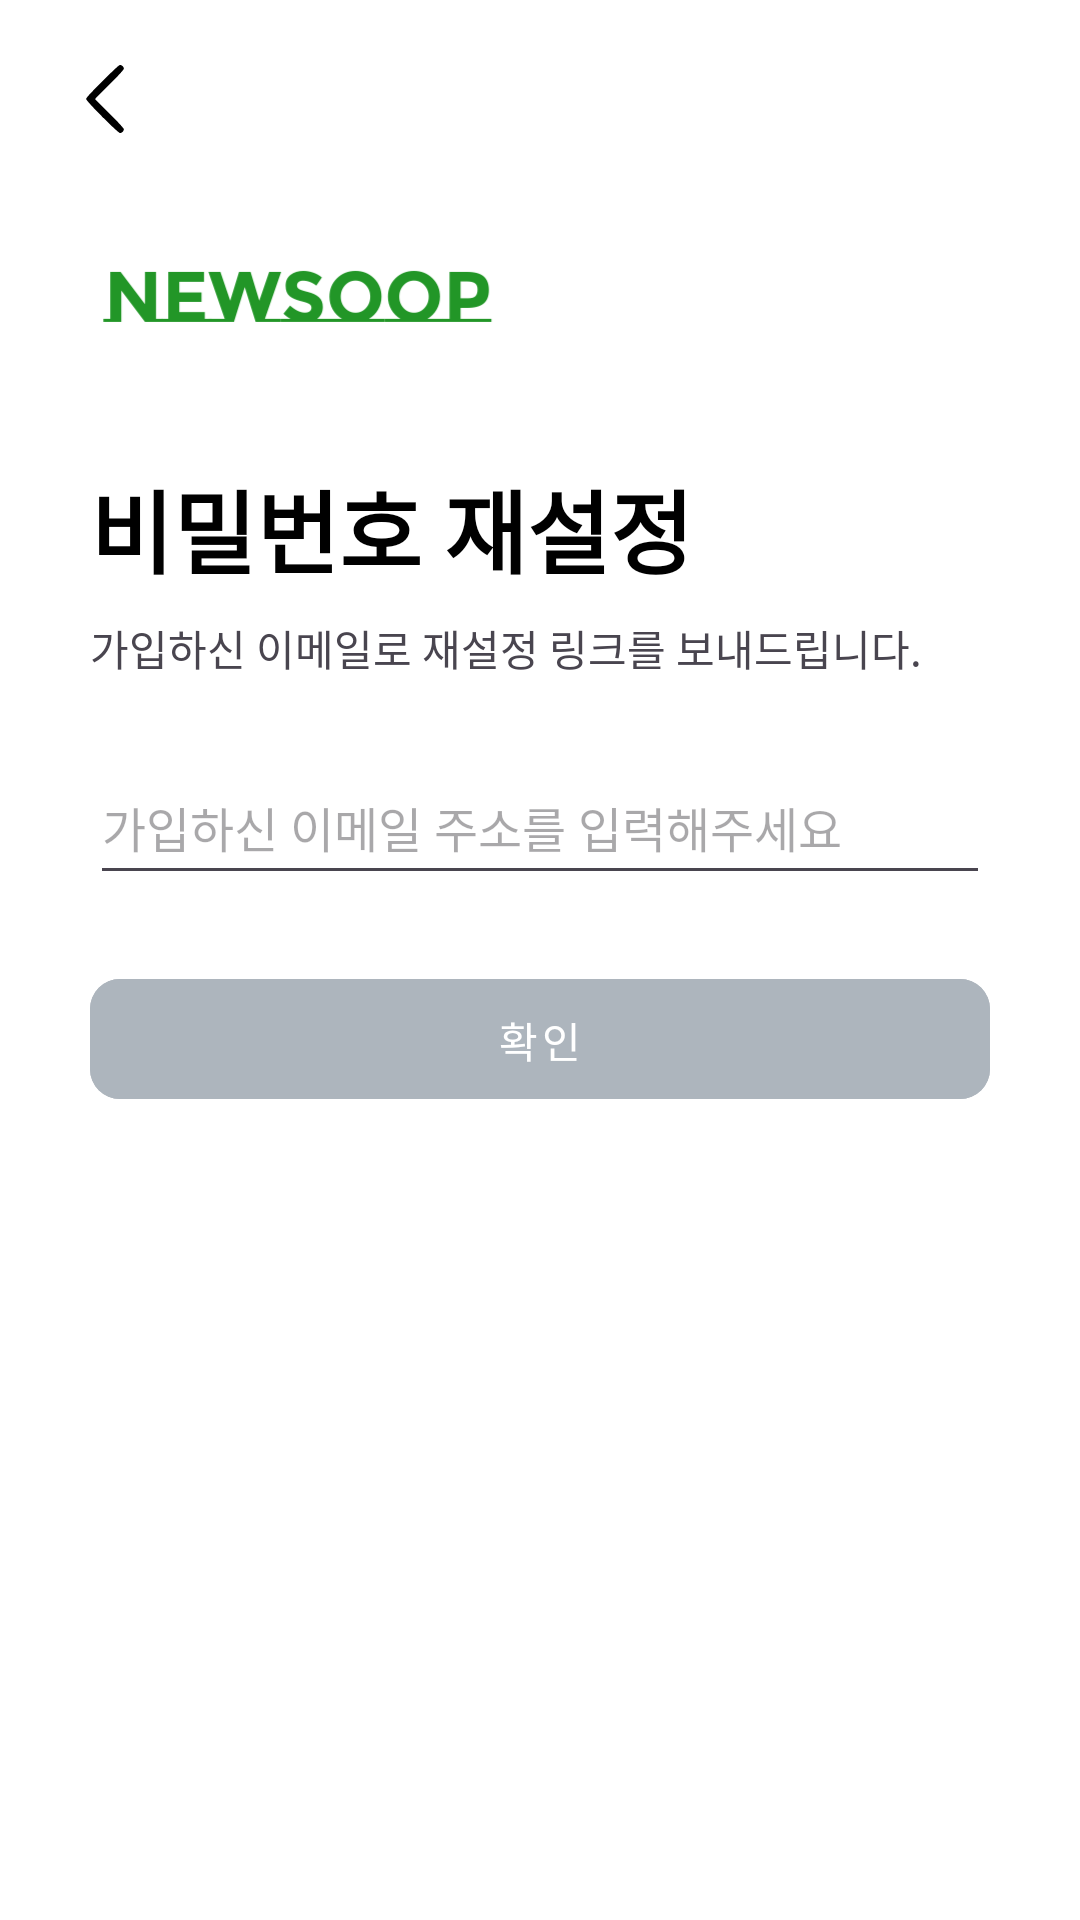

Locate icon controls on the screen. Image size 1080 × 1920, boxes as bbox=[x1, y1, x2, y2].
back: bbox=[86, 65, 124, 133]
